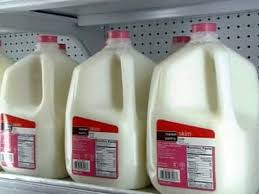milk: (152, 23, 257, 193), (69, 35, 148, 189), (9, 36, 64, 177)
